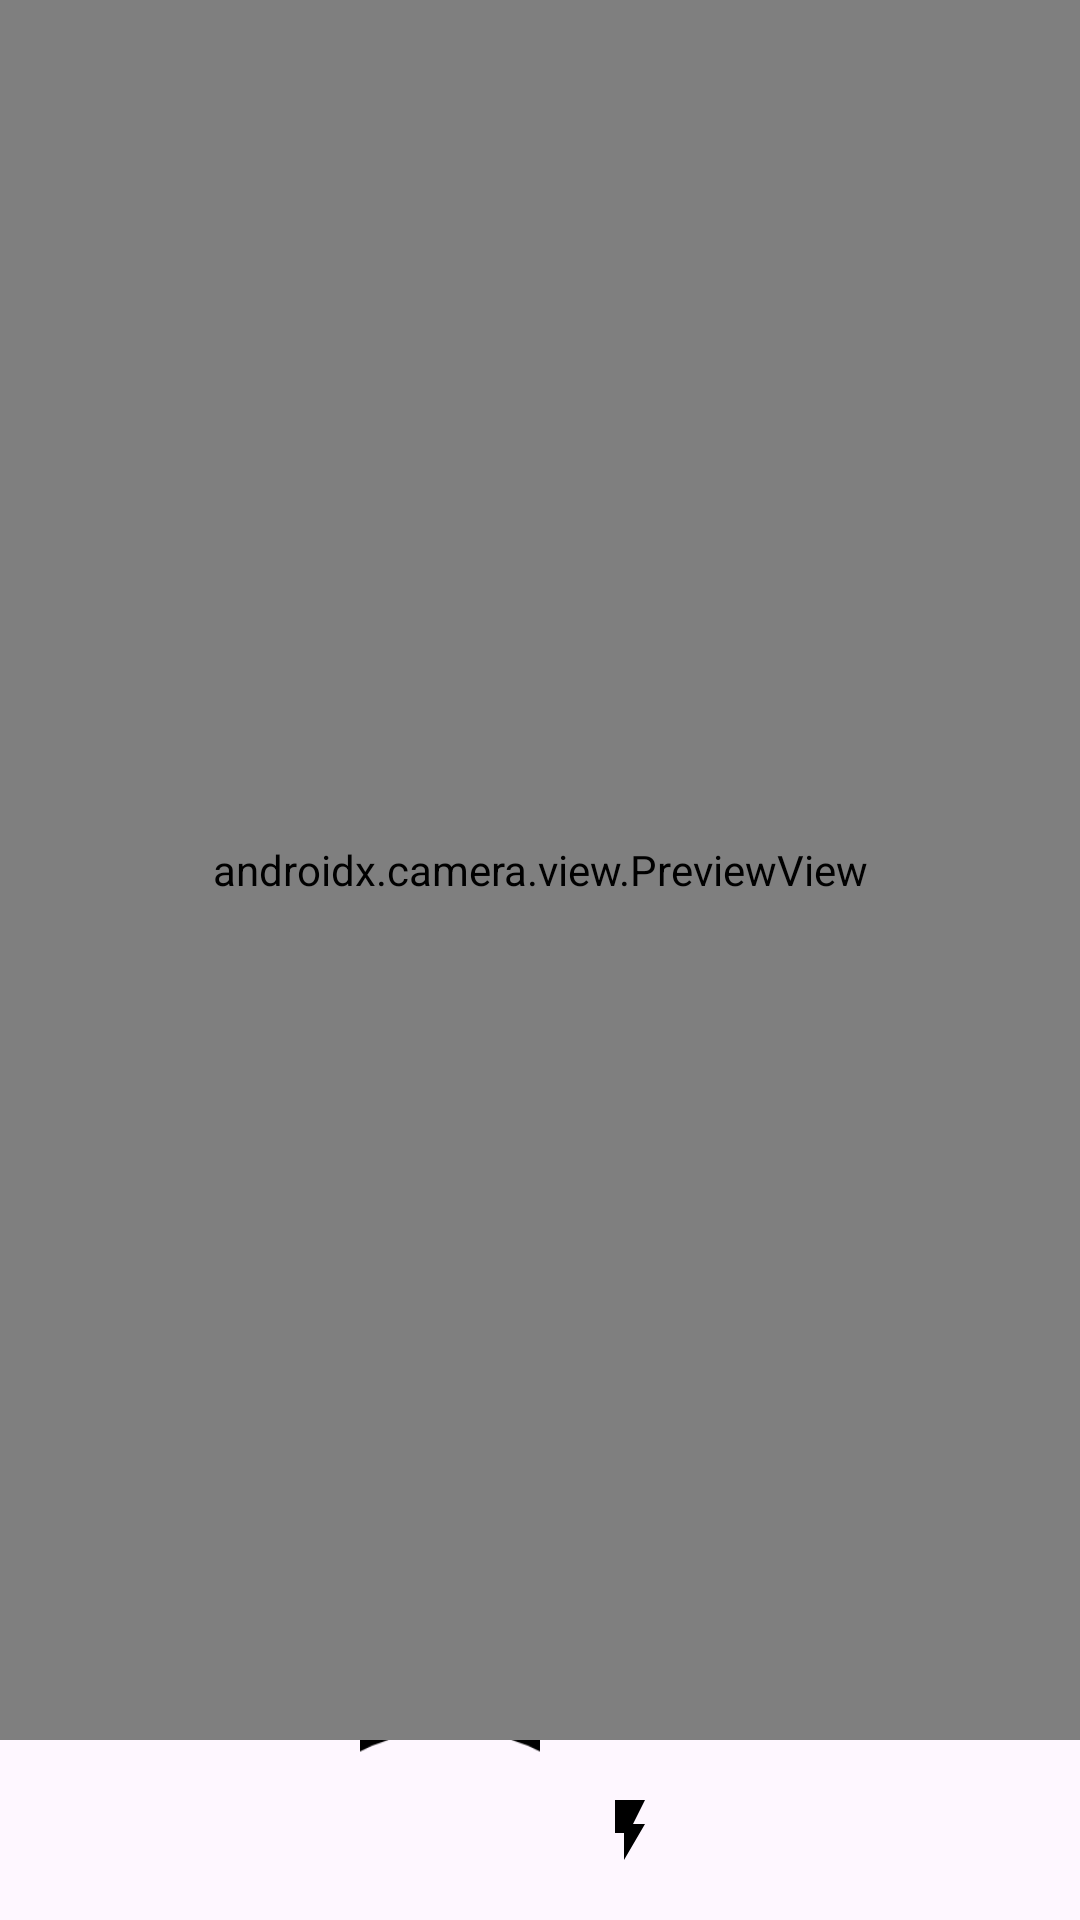

Point at icon controls on the screen. Image size 1080w x 1920h, points as (x=x, y=y).
flash on: (x=630, y=1830)
